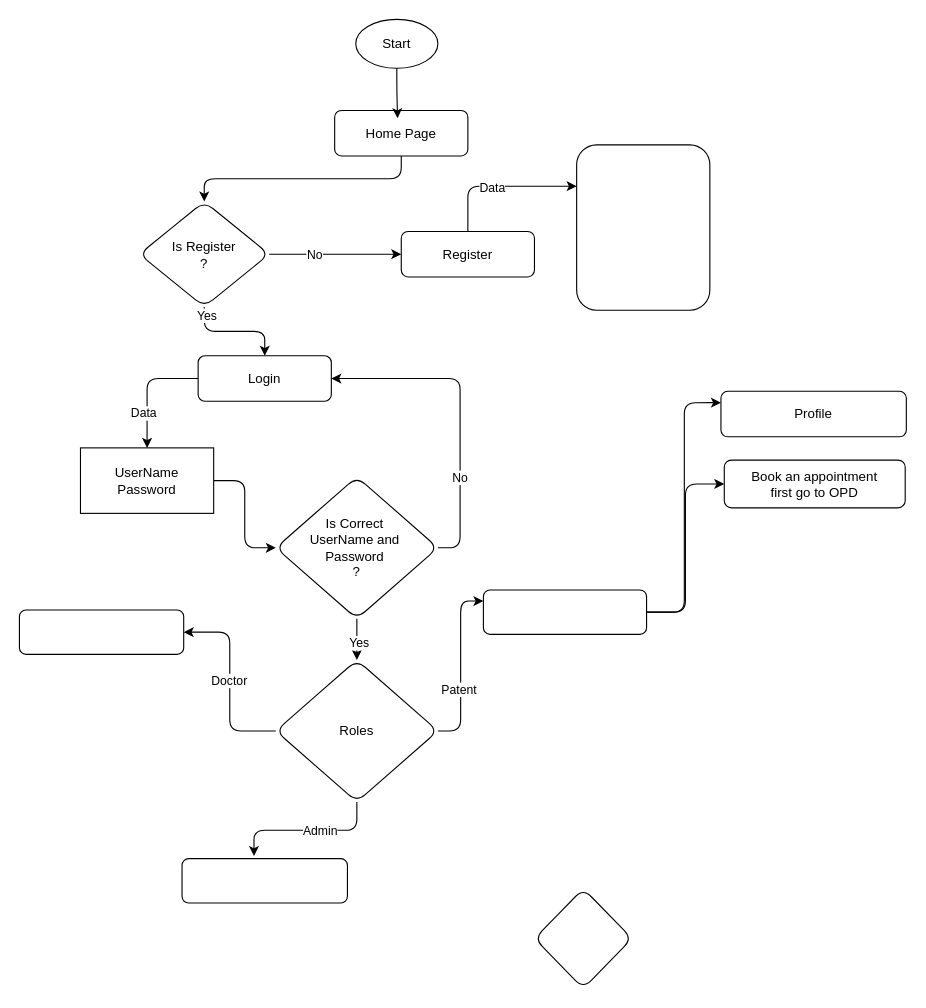
Image size: 926x1008. Some labels were removed from this diagram. The centre of each missing label's shape, as x and y in pixels:
"Dashboard Admin" belongs at pixel 264 880.
"Dashboard Doctor" belongs at pixel 101 631.
"Dashboard Patient" belongs at pixel 564 611.
"Email Mobile UserName Address Etc" belongs at pixel 643 227.
"Sign in" belongs at pixel 582 937.
